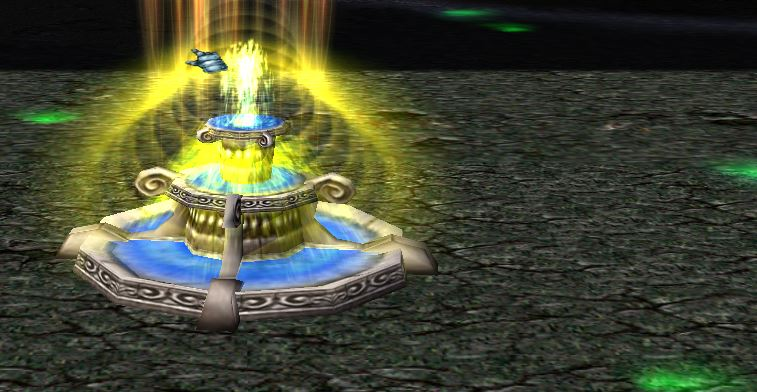sunwell: (61, 78, 438, 306)
